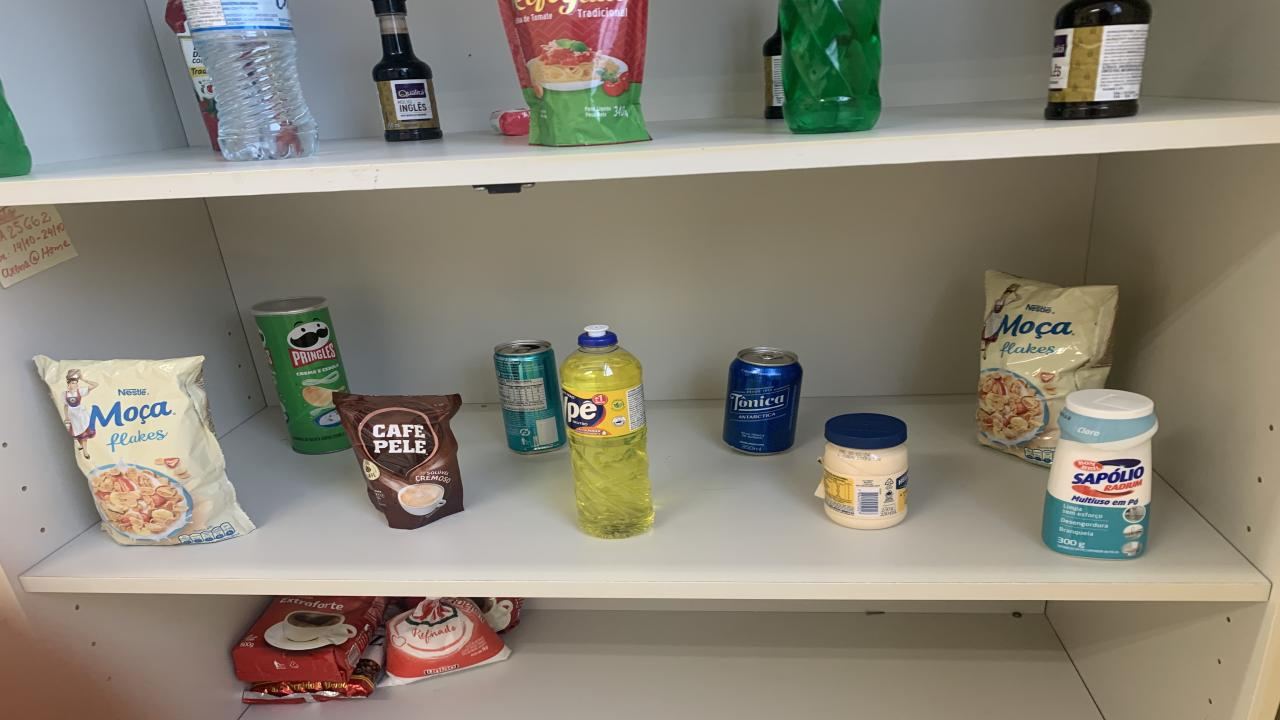Cleaner-Cleanup_Items: (1042, 388, 1158, 559)
Coffee-Pantry_Items: (335, 394, 465, 529)
Detergent-Cleanup_Items: (560, 324, 655, 538), (780, 0, 882, 133), (0, 82, 32, 176)
English_Sauce-Pantry_Items: (1045, 0, 1152, 120), (372, 0, 442, 142), (762, 24, 785, 120)
Flakes-Snacks: (32, 354, 255, 546), (975, 270, 1118, 465)
Mayonnaise-Pantry_Items: (815, 412, 908, 529)
Pringles-Snacks: (250, 296, 350, 454)
Tea-Drinks: (495, 339, 565, 454)
Tomato_Sauce-Pantry_Items: (500, 0, 650, 146), (165, 0, 220, 150), (498, 373, 548, 411)
Tonic-Drinks: (722, 347, 802, 454)
Water_Bottle-Drinks: (182, 0, 318, 161)
